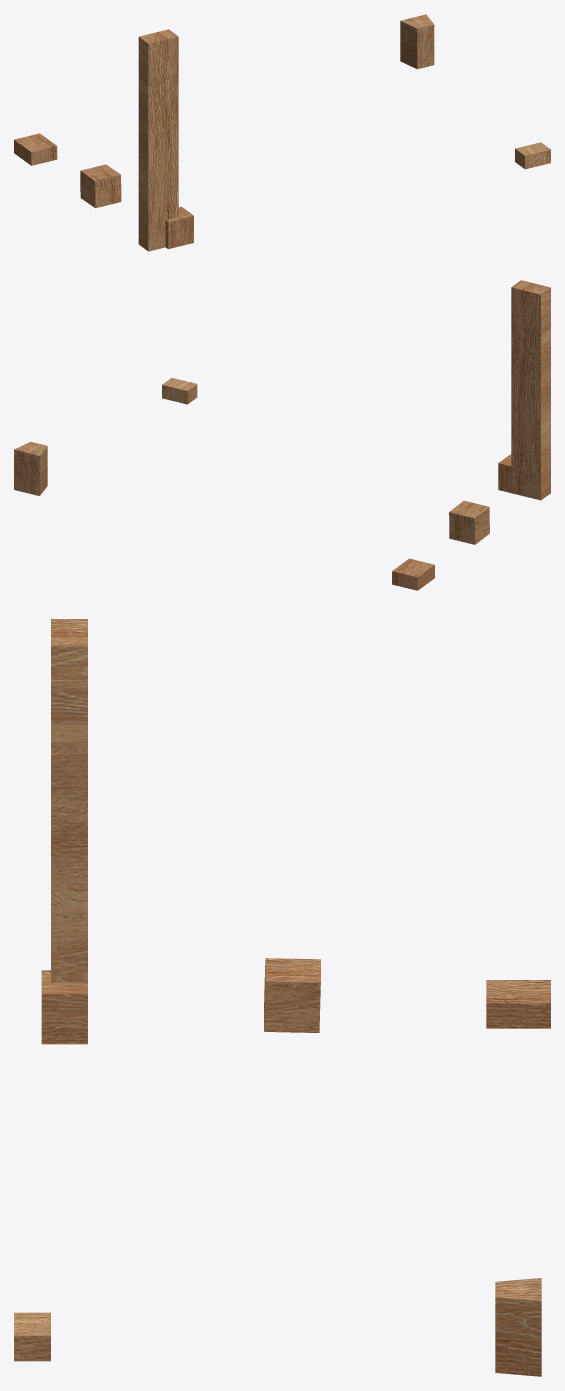
The model's file is 20005_deepcad.glb.
3 views of the same model, one above another, from view 1: azimuth 30°, elevation 25°; view 2: azimuth 150°, elevation 25°; view 3: azimuth 270°, elevation 25° (orthographic). The views are drawn at different scales.
Visible parts, largest first — view 1: test_cmd_20005_pred; view 2: test_cmd_20005_pred; view 3: test_cmd_20005_pred.
Boxes of the visible parts, x1,y1,x2,y2 form: test_cmd_20005_pred: (14,14,550,251); test_cmd_20005_pred: (14,280,550,590); test_cmd_20005_pred: (14,619,550,1376).
Size of the model in its own units: 1 by 0.485 by 0.6105.
1 material, 1 textured.
